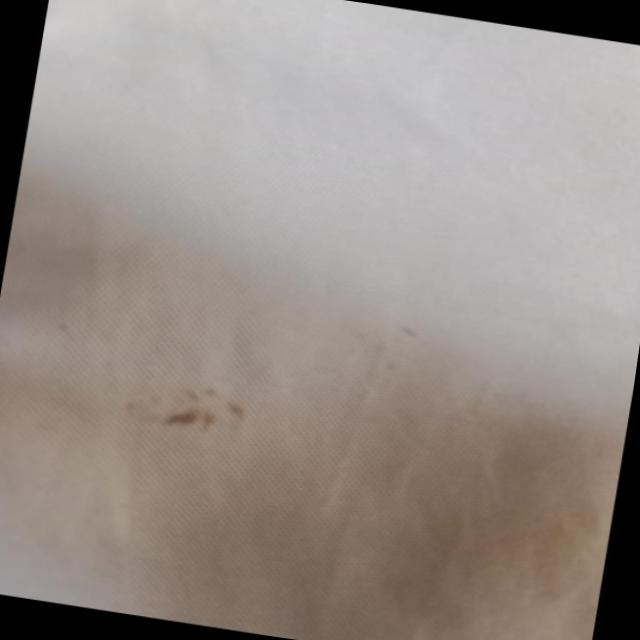stain: (114, 362, 264, 448)
